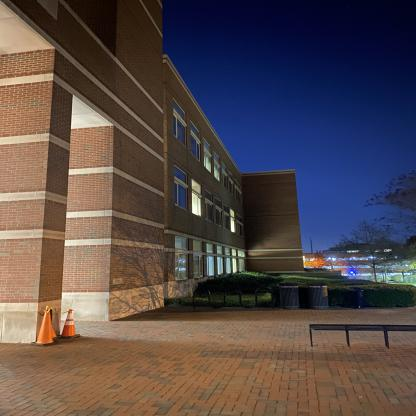eb2: (0, 1, 306, 321)
